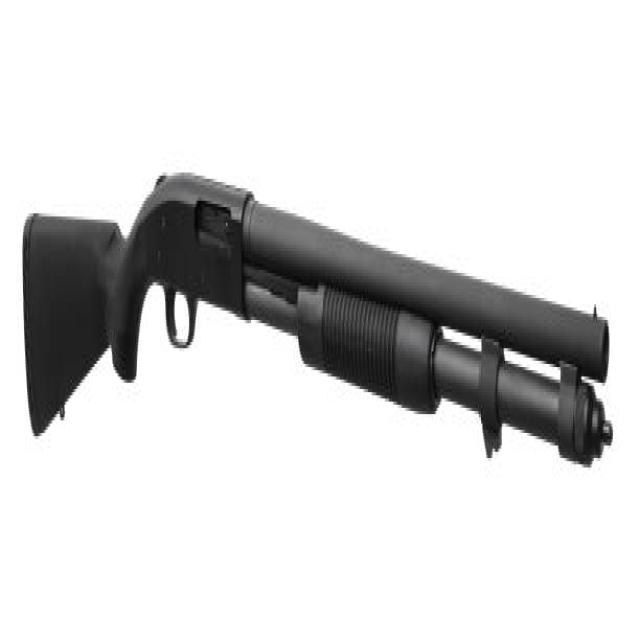rifle: (17, 158, 618, 499)
